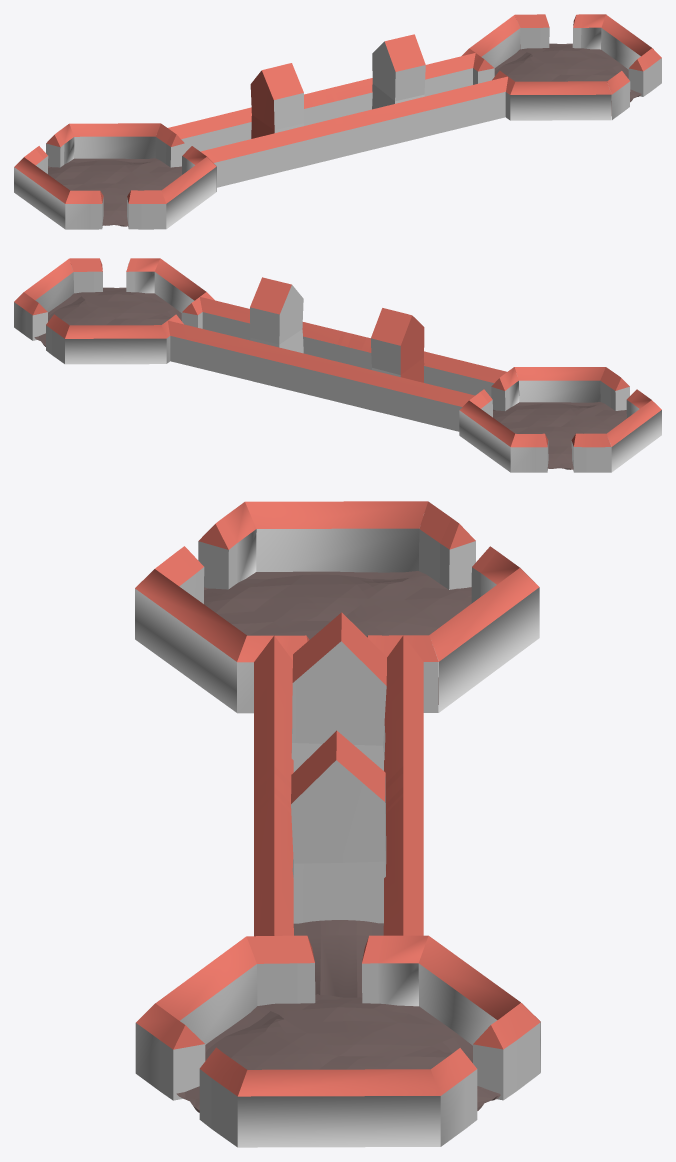
File: street_newest.fbx
3 views of the same model, one above another, from view 1: azimuth 30°, elevation 25°; view 2: azimuth 150°, elevation 25°; view 3: azimuth 270°, elevation 25° (orthographic). The views are drawn at different scales.
Visible parts, largest first — view 1: placa_gorund.001, placa_gorund.002, street.003, street.002, churchdoor, churchdoor.001, street.001; view 2: placa_gorund.001, placa_gorund.002, street.003, street.002, churchdoor.001, churchdoor, street.001; view 3: placa_gorund.002, placa_gorund.001, churchdoor.001, street.002, churchdoor, street.003, street.001.
Boxes of the visible parts, <box> form: placa_gorund.001: <box>14,123,216,229</box>; placa_gorund.002: <box>461,14,661,120</box>; street.003: <box>168,92,372,187</box>; street.002: <box>301,53,507,167</box>; churchdoor: <box>250,63,303,138</box>; churchdoor.001: <box>372,34,425,109</box>; street.001: <box>181,68,472,155</box>; placa_gorund.001: <box>459,367,661,472</box>; placa_gorund.002: <box>14,258,214,364</box>; street.003: <box>303,336,506,431</box>; street.002: <box>167,297,373,410</box>; churchdoor.001: <box>250,277,303,353</box>; churchdoor: <box>370,308,424,382</box>; street.001: <box>202,312,494,399</box>; placa_gorund.002: <box>135,935,540,1147</box>; placa_gorund.001: <box>135,501,539,713</box>; churchdoor.001: <box>291,730,386,923</box>; street.002: <box>254,793,423,997</box>; churchdoor: <box>291,612,386,772</box>; street.003: <box>254,635,423,792</box>; street.001: <box>254,773,423,935</box>.
Size of the model in its own units: 134 by 18.26 by 39.33.
